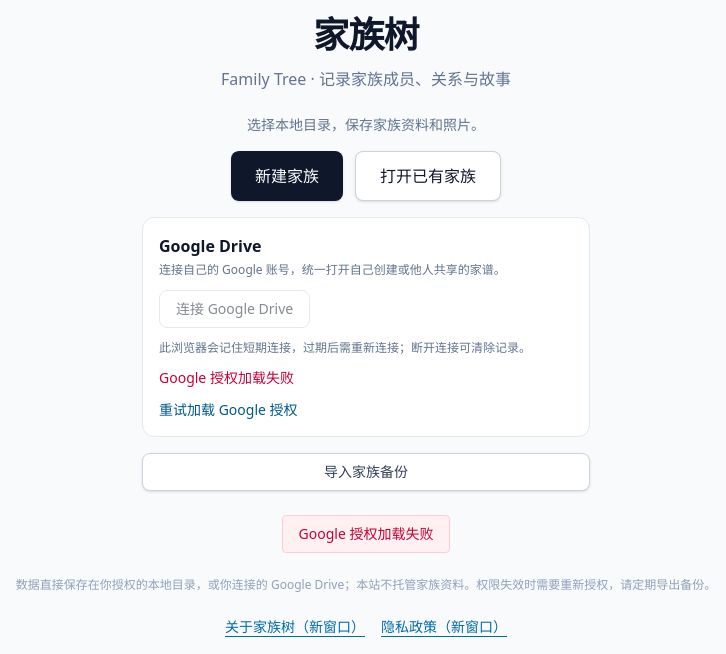
Scenario: Welcome Google Drive connections › retries a failed authorization script without opening OAuth until a separate connect click
This screenshot has width=726, height=654.
Click the button "重试加载 Google 授权": (228, 410) [159, 400, 298, 420]
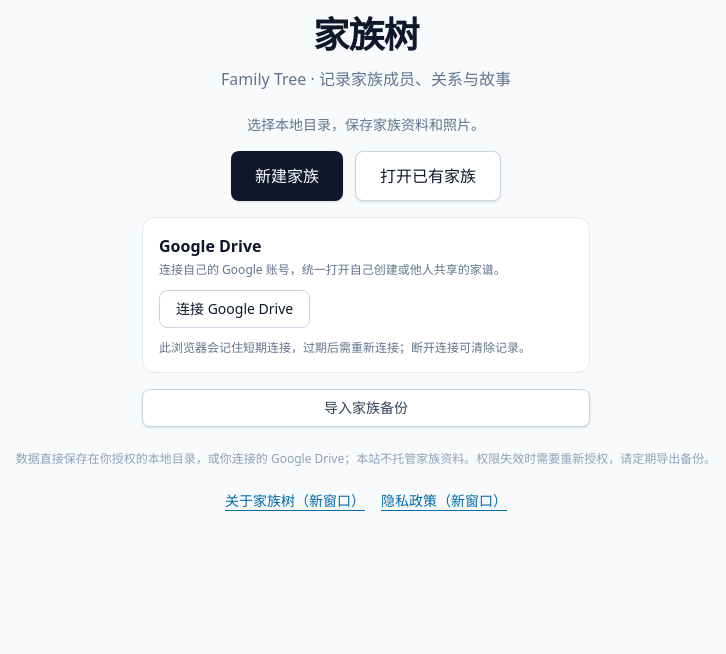
Expected: the button "连接 Google Drive" is enabled, [159, 290, 310, 328]
